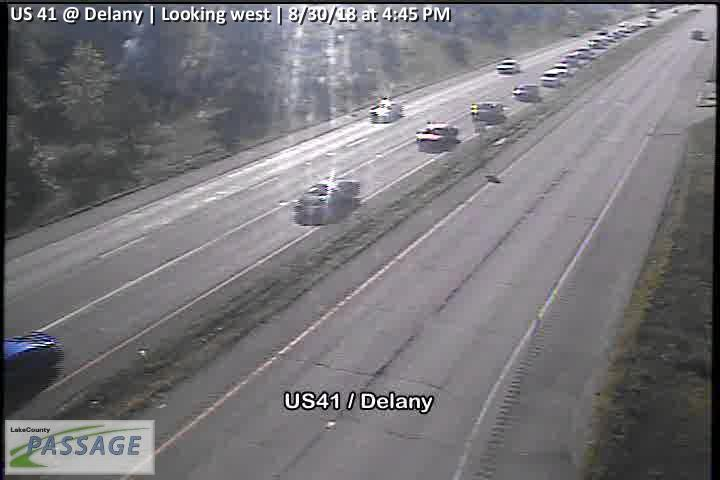SUV: (292, 176, 362, 224), (369, 98, 403, 124), (512, 82, 540, 101), (541, 68, 562, 88), (688, 29, 706, 41)
Sedan: (5, 331, 64, 393), (415, 120, 462, 152), (473, 101, 505, 121), (496, 58, 522, 75), (554, 61, 570, 75)
